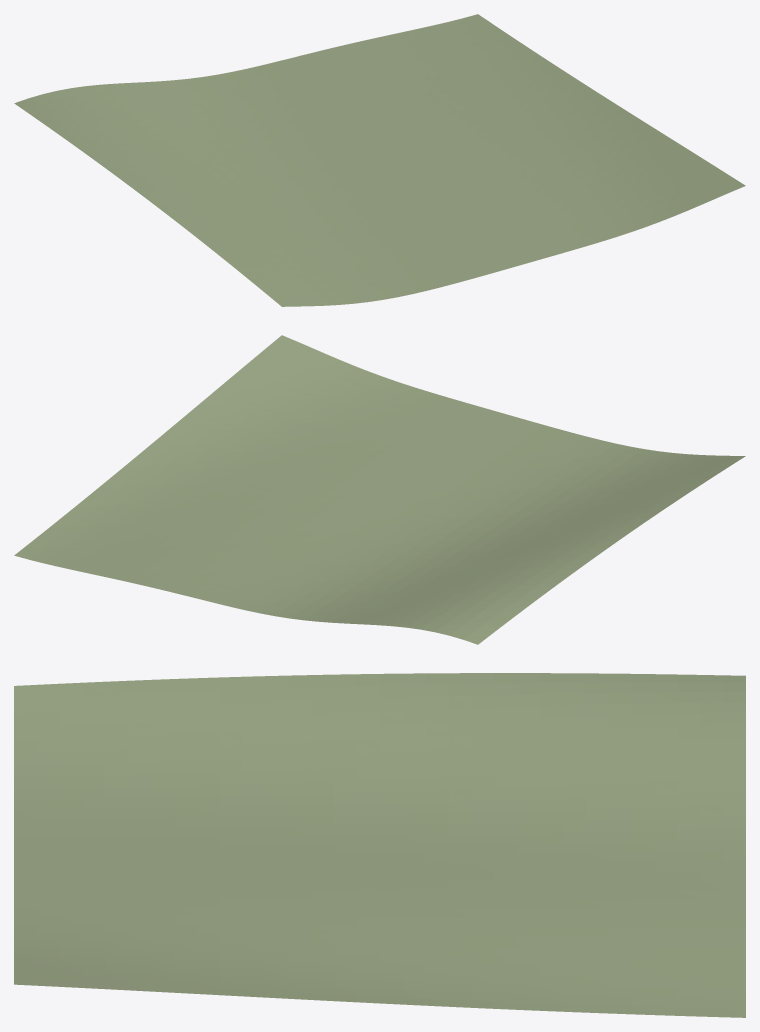
The model's file is desert-9-5.glb.
The picture shows the model from 3 angles, top to bottom: view 1: azimuth 30°, elevation 25°; view 2: azimuth 150°, elevation 25°; view 3: azimuth 270°, elevation 25°; orthographic projection. The views are drawn at different scales.
Visible parts, largest first — view 1: desert-9-5; view 2: desert-9-5; view 3: desert-9-5.
Boxes of the visible parts, x1,y1,x2,y2 form: desert-9-5: [14, 14, 745, 306]; desert-9-5: [14, 335, 745, 644]; desert-9-5: [14, 673, 745, 1017].
Bounding box in the file's own units: 512 × 30.45 × 512.
